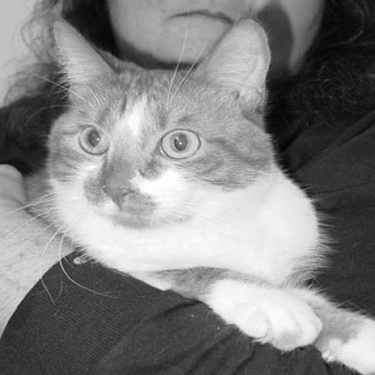cat: (28, 17, 371, 373)
